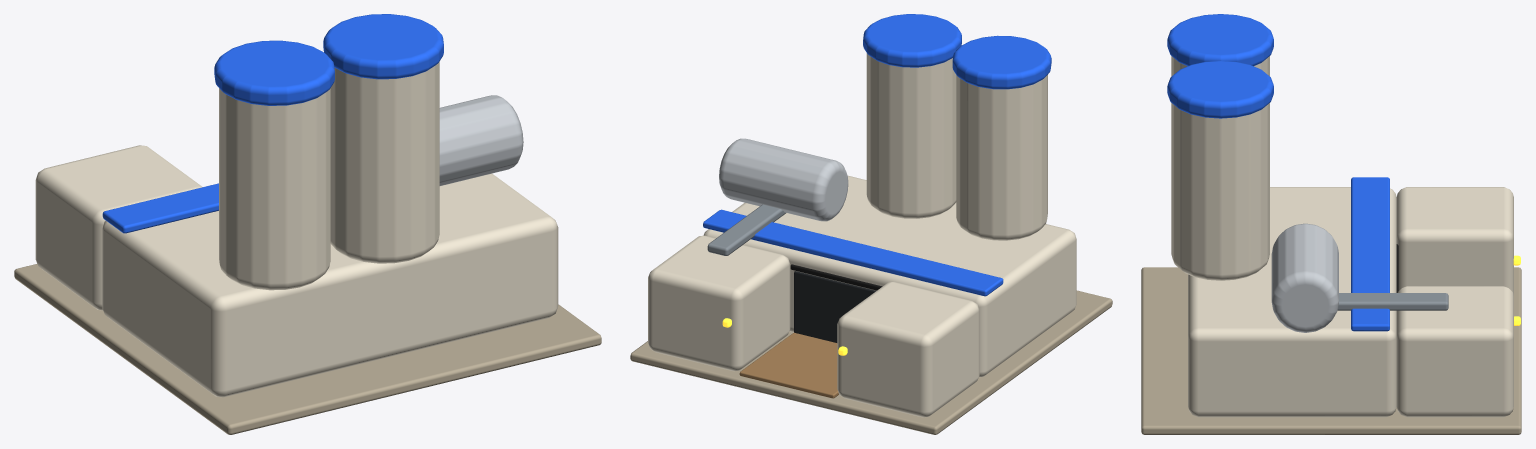
Rendered from mining_refinery.glb.
3 renders of one model, left to right at view 1: azimuth 30°, elevation 25°; view 2: azimuth 150°, elevation 25°; view 3: azimuth 270°, elevation 25°, orthographic. The views are drawn at different scales.
Parts seen in each view (by area): view 1: stage_1__M_CreamPlastic, stage_3__M_CreamPlastic, stage_0__M_SugarPad, stage_3__M_Team, stage_2__M_Foil, stage_2__M_Team; view 2: stage_1__M_CreamPlastic, stage_3__M_CreamPlastic, stage_0__M_SugarPad, stage_3__M_Team, stage_2__M_Foil, stage_2__M_Team, stage_0__M_Kraft, door__M_Dark, stage_2__M_SpringSteel, stage_1__M_Licorice; view 3: stage_1__M_CreamPlastic, stage_3__M_CreamPlastic, stage_0__M_SugarPad, stage_3__M_Team, stage_2__M_Foil, stage_2__M_Team, stage_2__M_SpringSteel.
Boxes of the visible parts, <box> form: stage_1__M_CreamPlastic: <box>35,145,558,397</box>; stage_3__M_CreamPlastic: <box>219,62,439,290</box>; stage_0__M_SugarPad: <box>14,264,601,434</box>; stage_3__M_Team: <box>214,14,443,105</box>; stage_2__M_Foil: <box>439,95,523,185</box>; stage_2__M_Team: <box>102,183,218,233</box>; stage_1__M_CreamPlastic: <box>648,175,1076,417</box>; stage_3__M_CreamPlastic: <box>866,53,1047,240</box>; stage_0__M_SugarPad: <box>630,290,1112,434</box>; stage_3__M_Team: <box>863,14,1051,89</box>; stage_2__M_Foil: <box>719,138,848,221</box>; stage_2__M_Team: <box>703,209,1003,296</box>; stage_0__M_Kraft: <box>739,332,838,398</box>; door__M_Dark: <box>794,271,876,342</box>; stage_2__M_SpringSteel: <box>707,204,785,255</box>; stage_1__M_Licorice: <box>790,264,882,290</box>; stage_1__M_CreamPlastic: <box>1188,187,1513,417</box>; stage_3__M_CreamPlastic: <box>1171,56,1269,280</box>; stage_0__M_SugarPad: <box>1141,267,1521,434</box>; stage_3__M_Team: <box>1167,14,1273,118</box>; stage_2__M_Foil: <box>1271,223,1338,332</box>; stage_2__M_Team: <box>1351,177,1389,331</box>; stage_2__M_SpringSteel: <box>1337,293,1448,310</box>.
Bounding box in the file's own units: 2.92 × 2.37 × 2.92.
